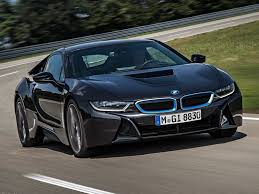car: (11, 35, 245, 158)
